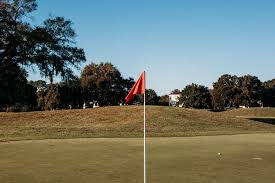Flag: (123, 72, 146, 103)
